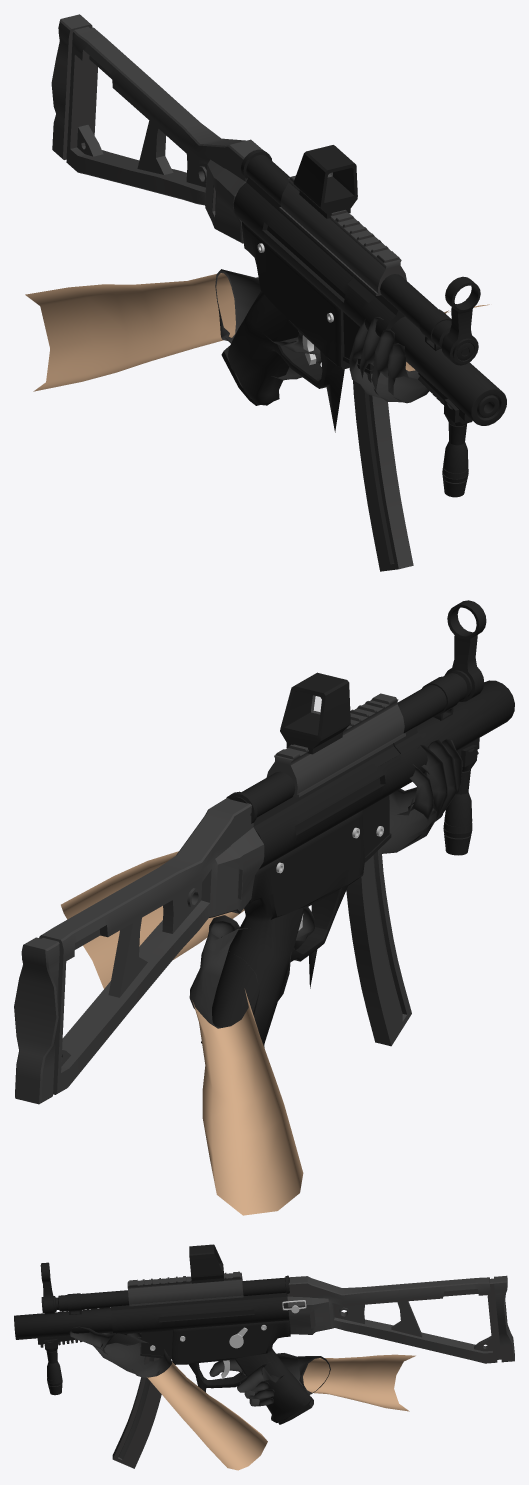
Rendered from mp5-rig-1.glb.
3 renders of one model, top to bottom at view 1: azimuth 30°, elevation 25°; view 2: azimuth 150°, elevation 25°; view 3: azimuth 270°, elevation 25°, orthographic. The views are drawn at different scales.
Parts seen in each view (by area): view 1: Plan012.010; view 2: Plan012.010; view 3: Plan012.010.
Boxes of the visible parts, x1,y1,x2,y2 form: Plan012.010: (25,14,506,571); Plan012.010: (14,600,514,1215); Plan012.010: (14,1244,514,1470).
Bounding box in the file's own units: 0.0757 × 0.0752 × 0.1562.
